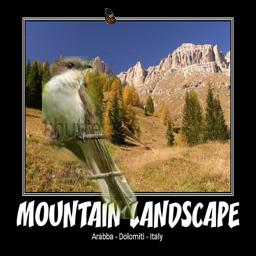Cuckoo: (42, 56, 137, 219)
Swallow: (105, 8, 116, 24)
